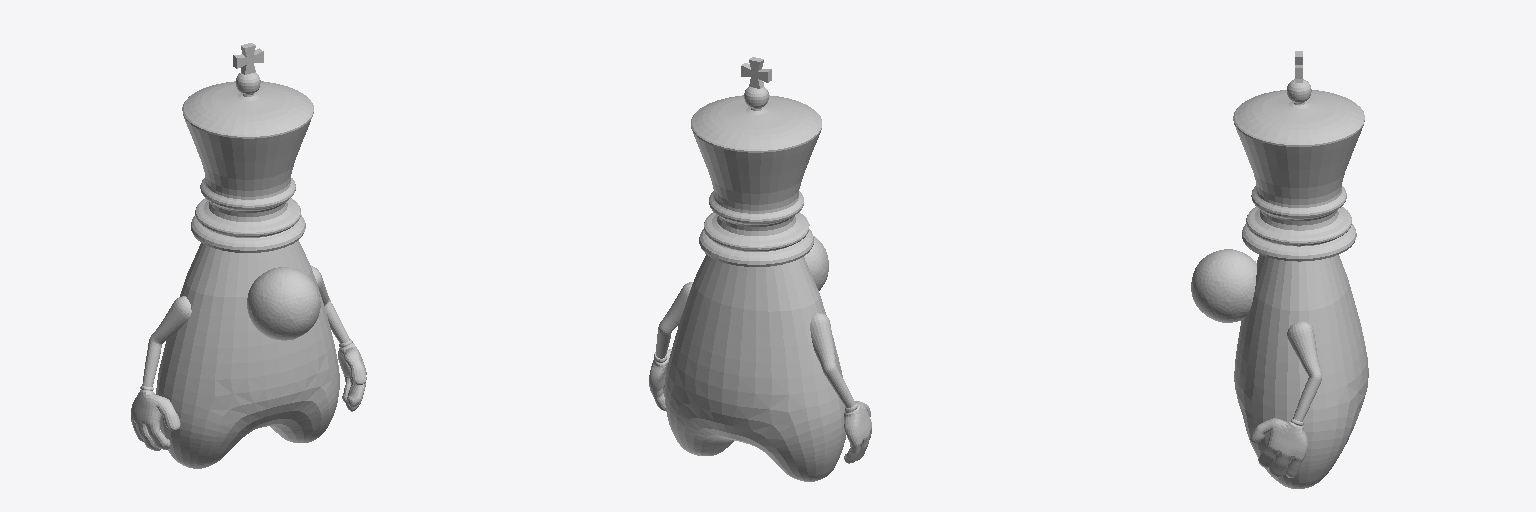
Rendered from duke_king_poly.obj.
The picture shows the model from 3 angles: view 1: azimuth 30°, elevation 25°; view 2: azimuth 150°, elevation 25°; view 3: azimuth 270°, elevation 25°; orthographic projection.
Visible parts, largest first — view 1: duke_C_body_geo, king_mesh, duke_C_nose_geo, duke_C_head_geo, duke_R_hand_geo, duke_R_arm_geo, duke_L_hand_geo, duke_L_arm_geo, king_cross_mesh; view 2: duke_C_body_geo, king_mesh, duke_C_head_geo, duke_R_arm_geo, duke_R_hand_geo, duke_L_arm_geo, duke_C_nose_geo, duke_L_hand_geo, king_cross_mesh; view 3: king_mesh, duke_C_body_geo, duke_C_head_geo, duke_C_nose_geo, duke_L_hand_geo, duke_L_arm_geo.
Boxes of the visible parts, <box> form: duke_C_body_geo: <box>156,268,339,468</box>; king_mesh: <box>182,72,313,252</box>; duke_C_nose_geo: <box>247,267,320,340</box>; duke_C_head_geo: <box>185,240,310,296</box>; duke_R_hand_geo: <box>131,386,180,450</box>; duke_R_arm_geo: <box>142,296,191,386</box>; duke_L_hand_geo: <box>338,339,366,411</box>; duke_L_arm_geo: <box>311,266,349,343</box>; king_cross_mesh: <box>233,43,263,74</box>; duke_C_body_geo: <box>664,283,845,481</box>; king_mesh: <box>691,87,821,266</box>; duke_C_head_geo: <box>693,254,819,311</box>; duke_R_arm_geo: <box>810,312,855,407</box>; duke_R_hand_geo: <box>844,401,871,463</box>; duke_L_arm_geo: <box>656,282,692,358</box>; duke_C_nose_geo: <box>804,236,828,290</box>; duke_L_hand_geo: <box>649,349,671,410</box>; king_cross_mesh: <box>741,57,771,88</box>; king_mesh: <box>1233,79,1364,261</box>; duke_C_body_geo: <box>1234,280,1368,488</box>; duke_C_head_geo: <box>1254,255,1348,310</box>; duke_C_nose_geo: <box>1191,249,1256,322</box>; duke_L_hand_geo: <box>1250,418,1307,478</box>; duke_L_arm_geo: <box>1287,321,1321,421</box>.
Size of the model in its own units: 0.1469 by 0.2598 by 0.103.